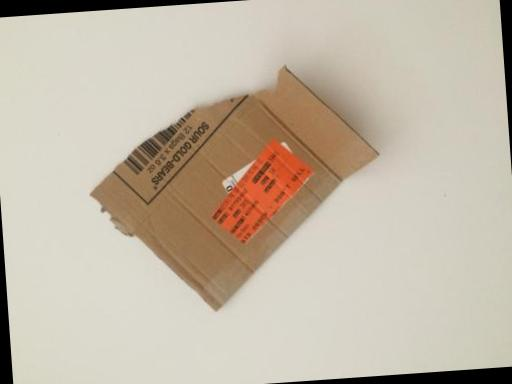cardboard: (63, 56, 413, 316)
